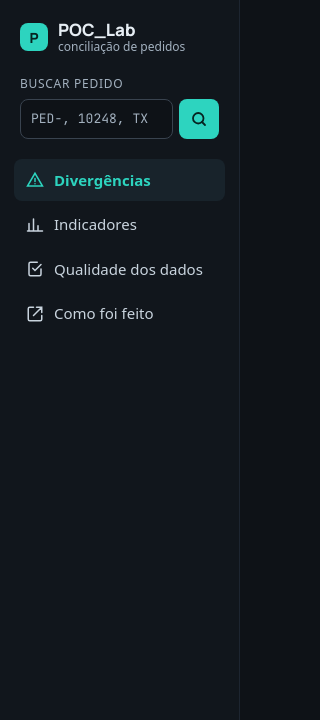
Test case: CampoBusca dentro da Casca — acessibilidade (vitest-axe) › com 'Informe um código': nenhuma violação e role=search uma única vez
This screenshot has width=320, height=720.
Click the button named "Buscar": (199, 119) [179,99,219,139]
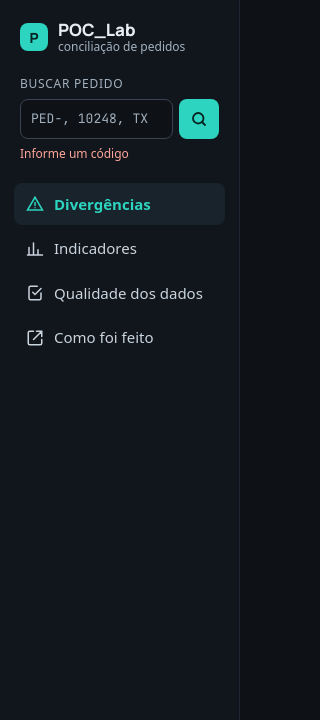
Expected: the number of forms is 1, [14,75,225,163]
Expected: the text "Informe um código" is shown, [20,145,129,162]
